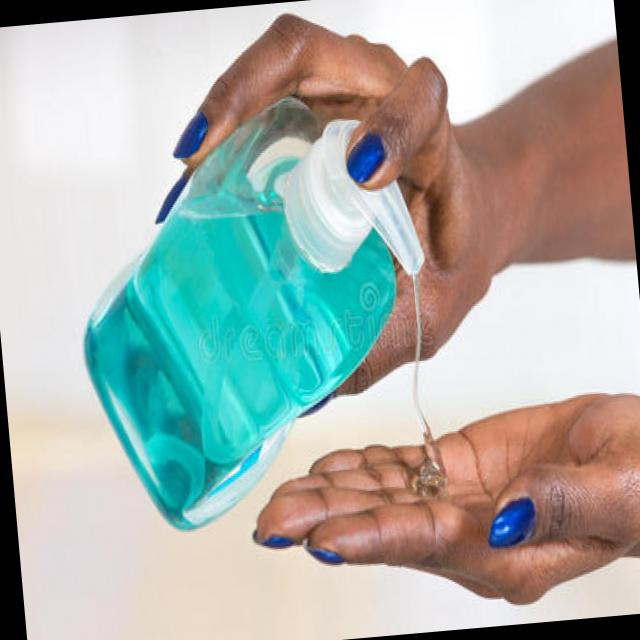sanitizer: (73, 84, 439, 473)
